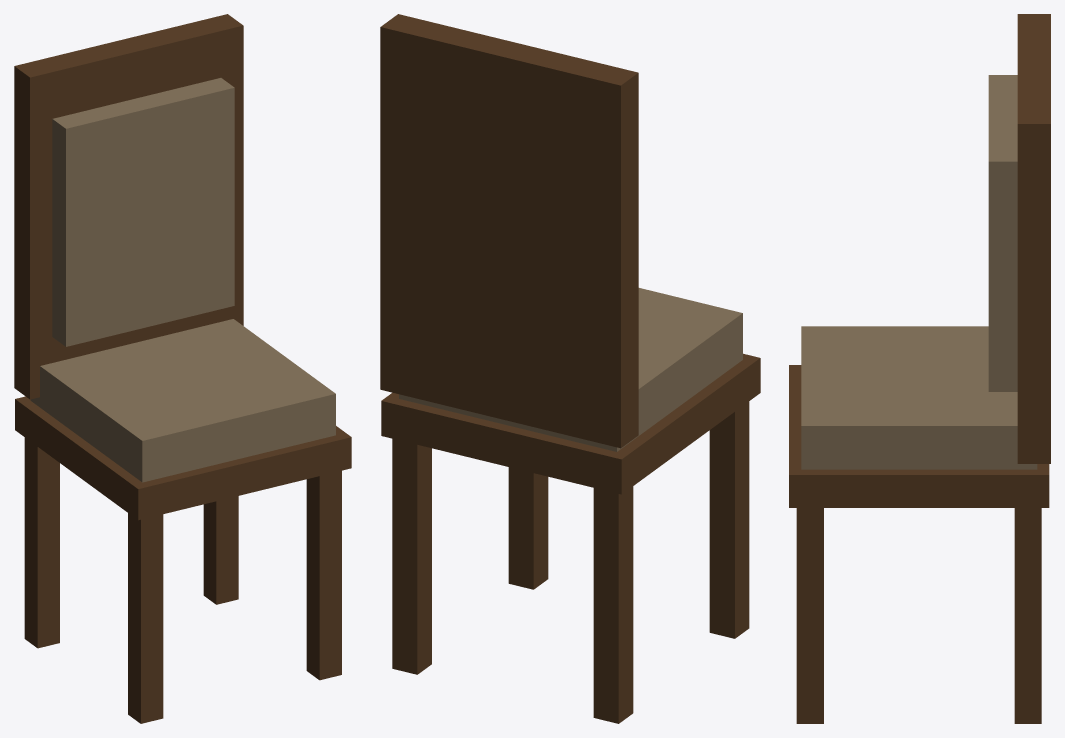
Rendered from chair_wood_80s.glb.
3 views of the same model, side by side, from view 1: azimuth 30°, elevation 25°; view 2: azimuth 150°, elevation 25°; view 3: azimuth 270°, elevation 25° (orthographic). The views are drawn at different scales.
Visible parts, largest first — view 1: fabric__back_cushion, fabric__seat_pad, wood__back_frame, wood__seat_frame, _MeshInstance3D_25, _MeshInstance3D_27, wood__leg, _MeshInstance3D_26; view 2: wood__back_frame, wood__seat_frame, fabric__seat_pad, wood__leg, _MeshInstance3D_26, _MeshInstance3D_25, _MeshInstance3D_27; view 3: fabric__seat_pad, wood__back_frame, wood__seat_frame, fabric__back_cushion, _MeshInstance3D_26, _MeshInstance3D_27.
Boxes of the visible parts, x1,y1,x2,y2 form: fabric__back_cushion: (52, 78, 234, 346); fabric__seat_pad: (30, 319, 335, 482); wood__back_frame: (14, 14, 243, 399); wood__seat_frame: (15, 396, 351, 520); _MeshInstance3D_25: (128, 513, 163, 723); _MeshInstance3D_27: (306, 470, 341, 680); wood__leg: (24, 437, 59, 648); _MeshInstance3D_26: (203, 496, 238, 604); wood__back_frame: (380, 14, 638, 448); wood__seat_frame: (381, 353, 760, 494); fabric__seat_pad: (399, 288, 742, 451); wood__leg: (593, 486, 633, 723); _MeshInstance3D_26: (392, 438, 431, 674); _MeshInstance3D_25: (709, 401, 749, 638); _MeshInstance3D_27: (508, 467, 548, 589); fabric__seat_pad: (801, 326, 1037, 469); wood__back_frame: (1017, 14, 1050, 463); wood__seat_frame: (789, 365, 1049, 507); fabric__back_cushion: (988, 75, 1017, 391); _MeshInstance3D_26: (1014, 508, 1041, 723); _MeshInstance3D_27: (796, 508, 823, 723).
Bounding box in the file's own units: 0.43 × 1.1 × 0.4325.
